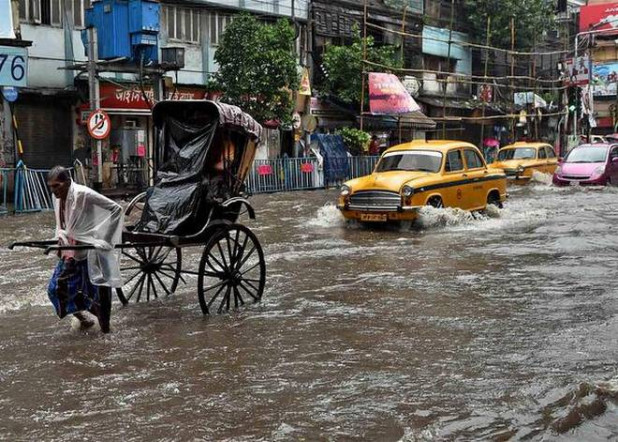Rickshaw: (39, 97, 267, 332)
